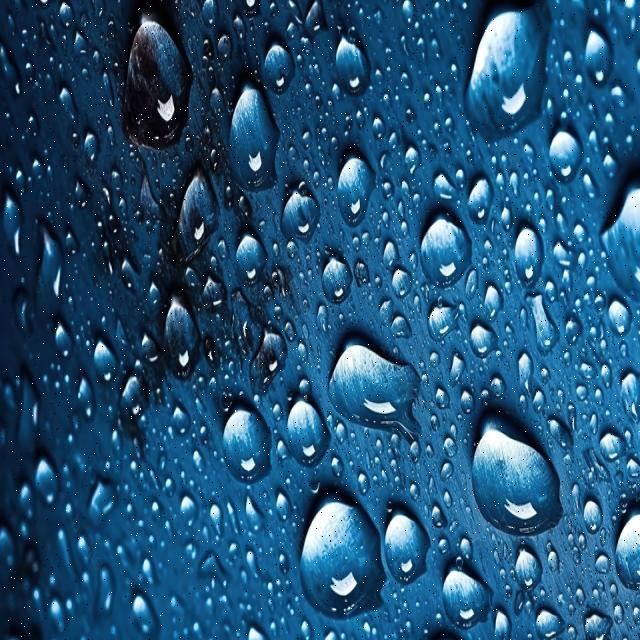raindrop: (460, 1, 553, 160), (466, 410, 568, 554), (113, 0, 194, 164), (327, 327, 428, 446), (297, 489, 378, 633), (219, 80, 288, 210), (217, 393, 286, 504), (375, 502, 444, 602), (416, 204, 482, 304), (595, 180, 640, 304), (334, 140, 386, 247), (29, 202, 72, 330), (172, 163, 222, 271), (570, 10, 626, 101), (444, 558, 508, 636), (538, 122, 594, 205), (232, 205, 278, 302), (158, 288, 202, 388), (280, 171, 330, 259), (328, 22, 376, 110), (318, 232, 365, 316), (286, 392, 332, 477), (508, 210, 548, 303), (257, 24, 304, 101), (114, 358, 154, 448), (425, 292, 473, 359), (86, 472, 130, 543), (89, 322, 130, 397), (463, 168, 500, 249), (118, 580, 167, 640), (610, 502, 640, 594), (596, 409, 638, 470), (30, 448, 66, 518), (0, 180, 27, 266), (607, 286, 640, 350), (470, 308, 506, 366), (178, 480, 205, 540)
